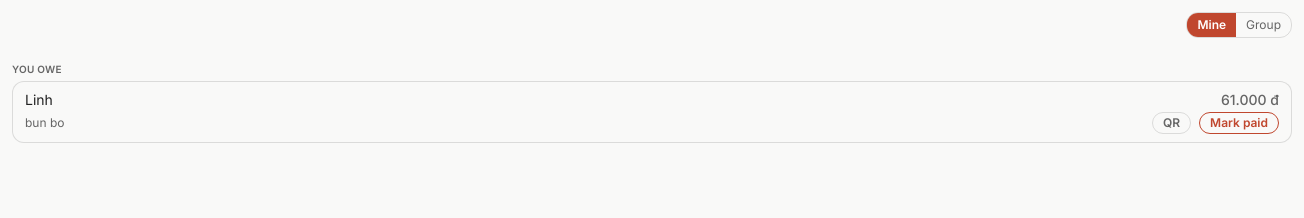
LedgerPanel › shows who owes whom and the timeline on 'Group'
Check: the text "You owe" is shown, box [12,63,62,75]
Click the button "Group": click(1264, 25) [1236,13,1291,37]
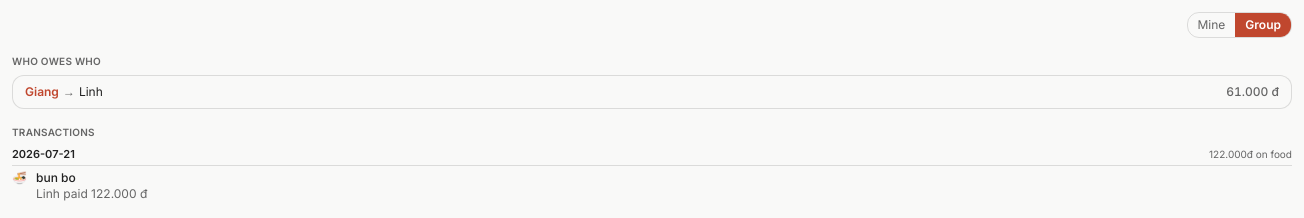
Check: the text "bun bo" is shown, box [36,170,76,184]
Check: the text "Who owes who" is shown, box [12,55,101,67]
Check: the text "Giang" is shown, box [25,84,59,99]
